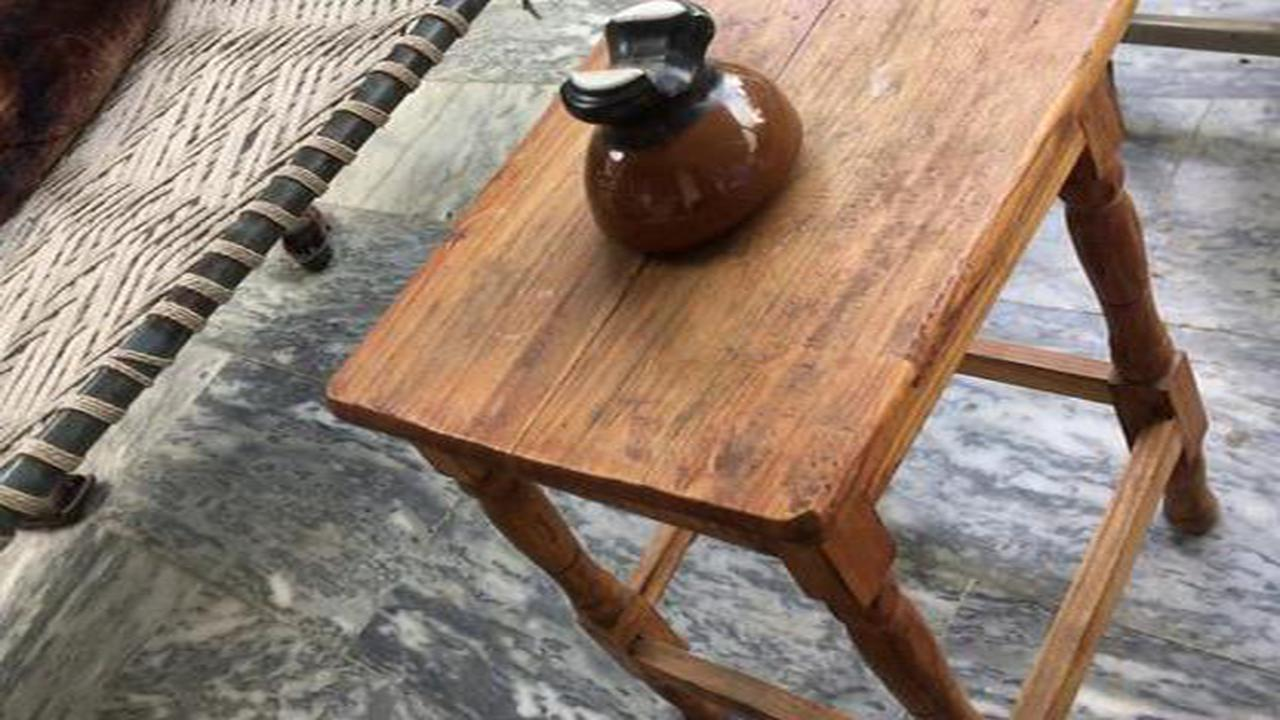insulator_pin: (536, 2, 822, 274)
